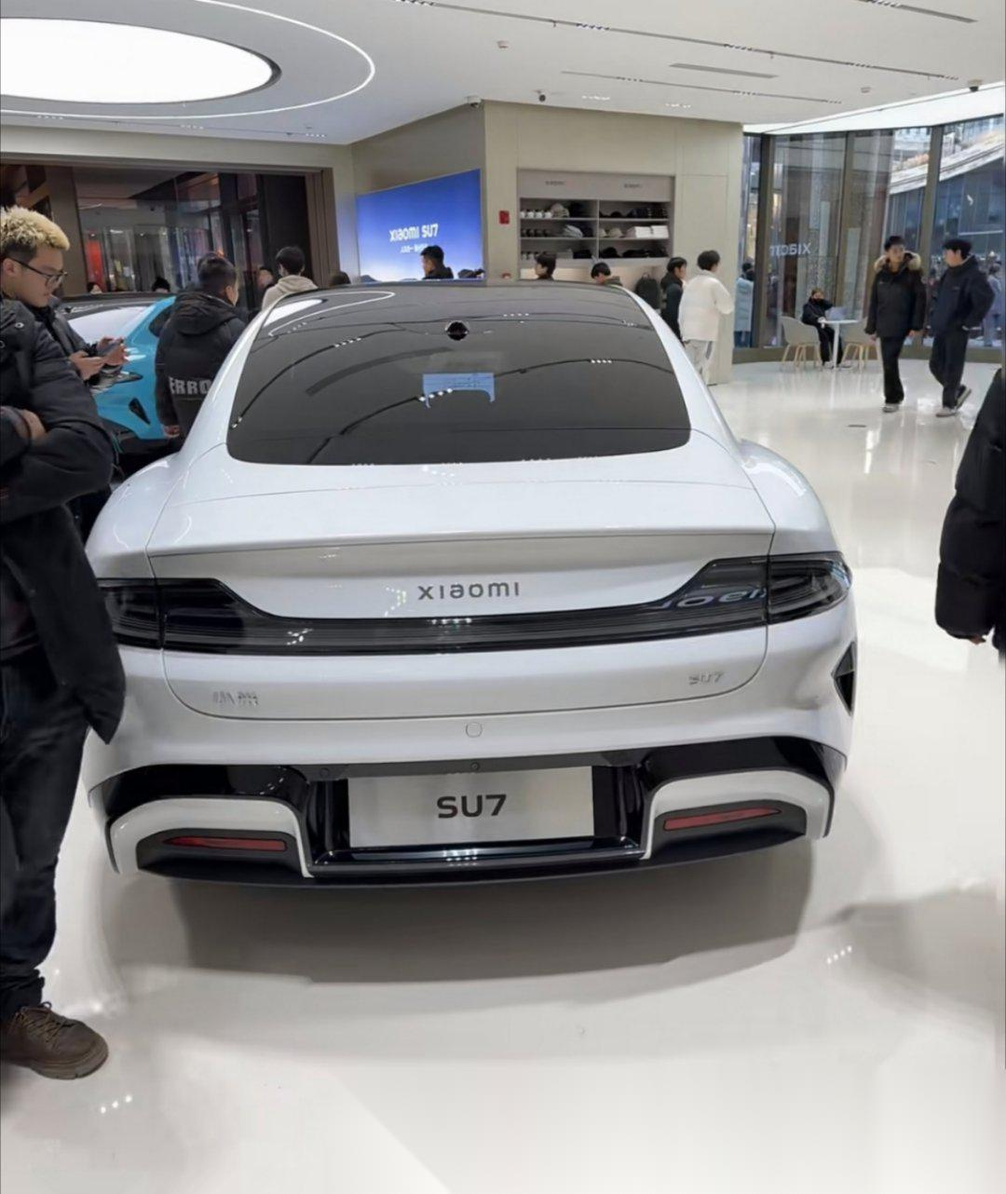su7: (81, 273, 863, 899)
